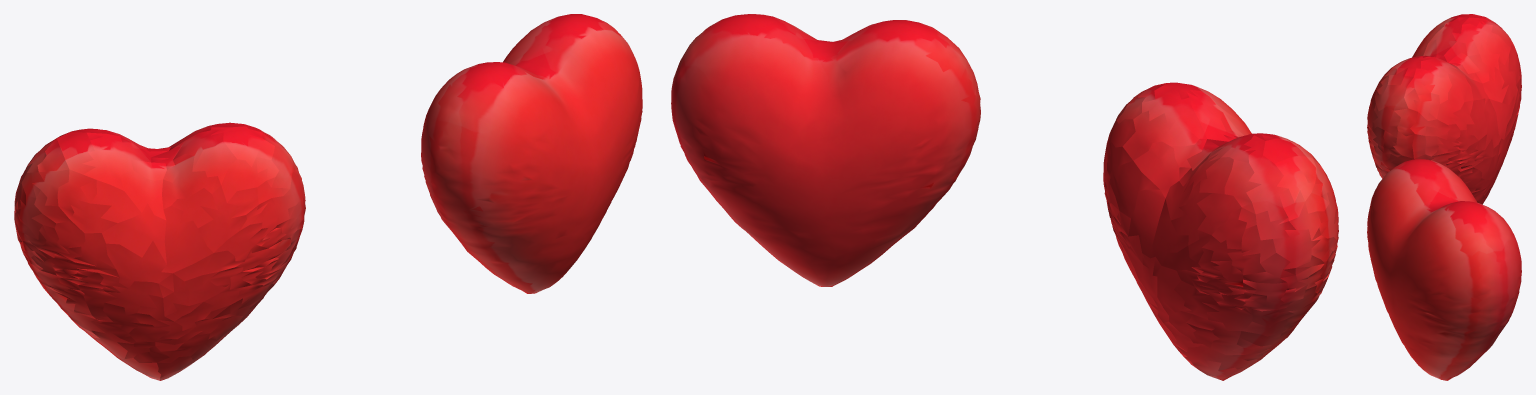
Rendered from Heart.glb.
3 views of the same model, side by side, from view 1: azimuth 30°, elevation 25°; view 2: azimuth 150°, elevation 25°; view 3: azimuth 270°, elevation 25° (orthographic). The views are drawn at different scales.
Visible parts, largest first — view 1: Mesh_0.006; view 2: Mesh_0.006; view 3: Mesh_0.006.
Boxes of the visible parts, x1=… form: Mesh_0.006: x1=14, y1=14, x2=642, y2=380; Mesh_0.006: x1=671, y1=14, x2=1338, y2=380; Mesh_0.006: x1=1367, y1=14, x2=1521, y2=380.
Size of the model in its own units: 0.4208 by 0.1663 by 0.1178.
1 material, 1 textured.
